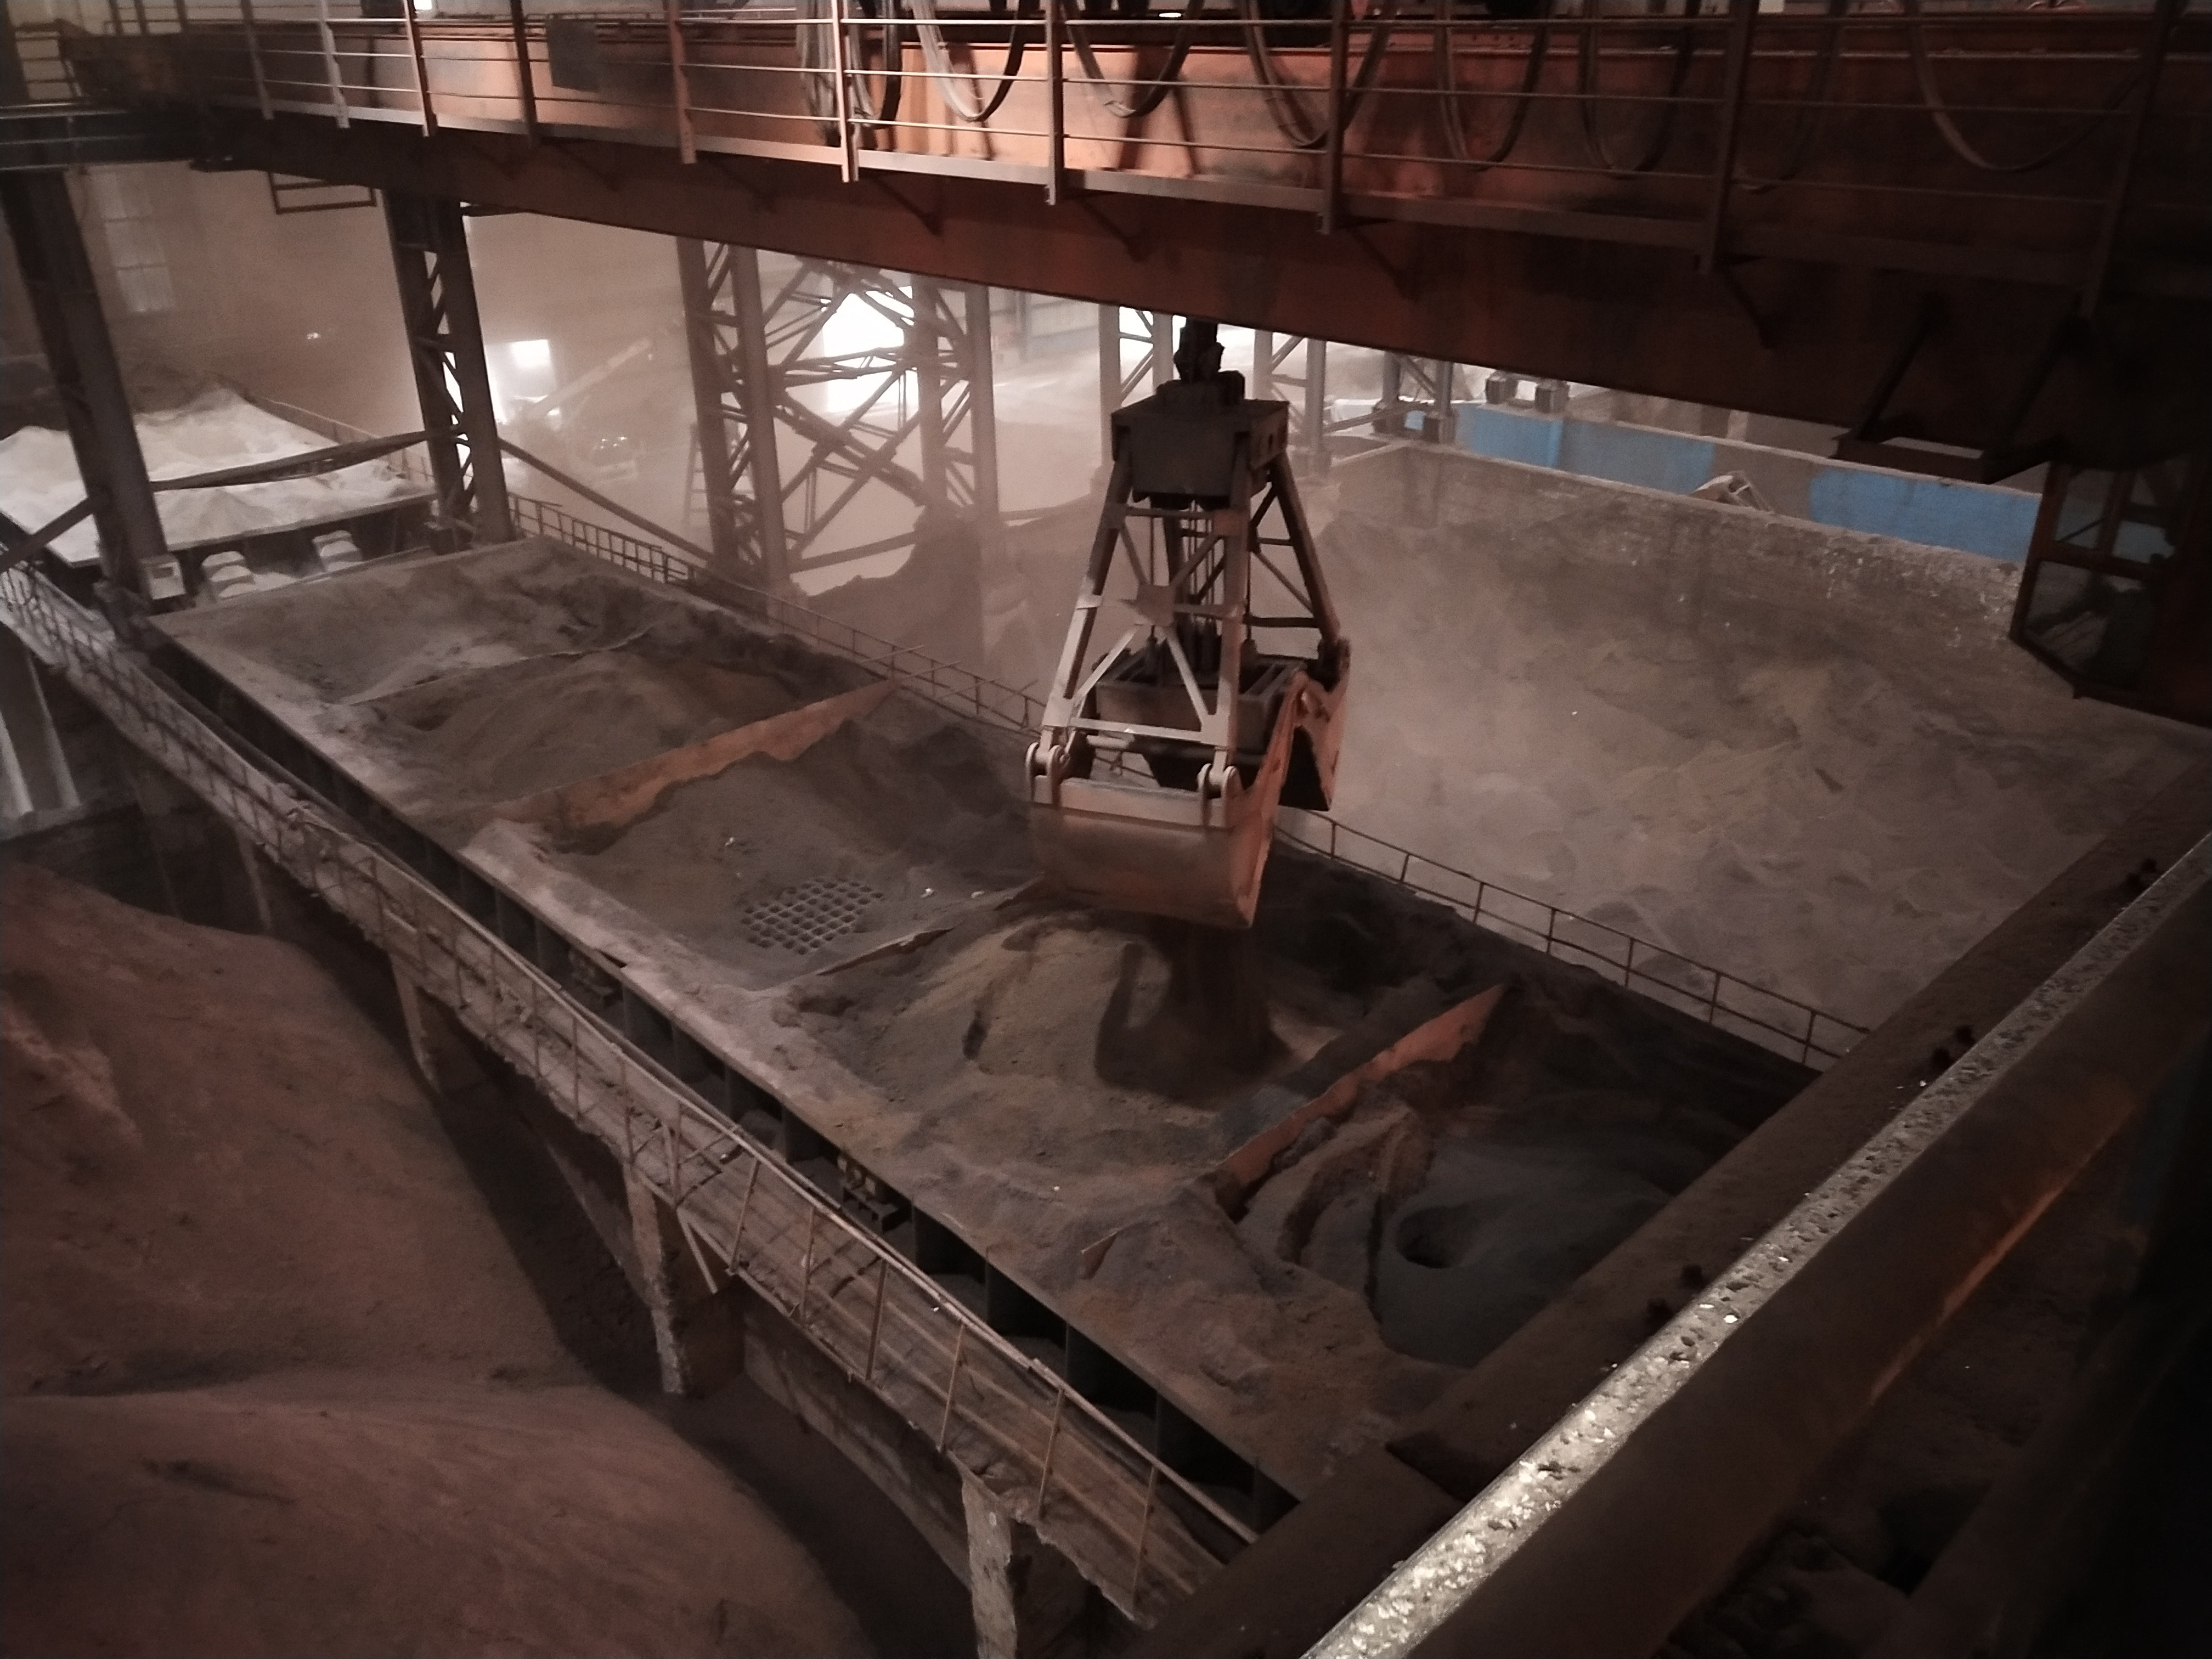dust: (1352, 572, 1686, 843)
grab: (995, 314, 1379, 927)
